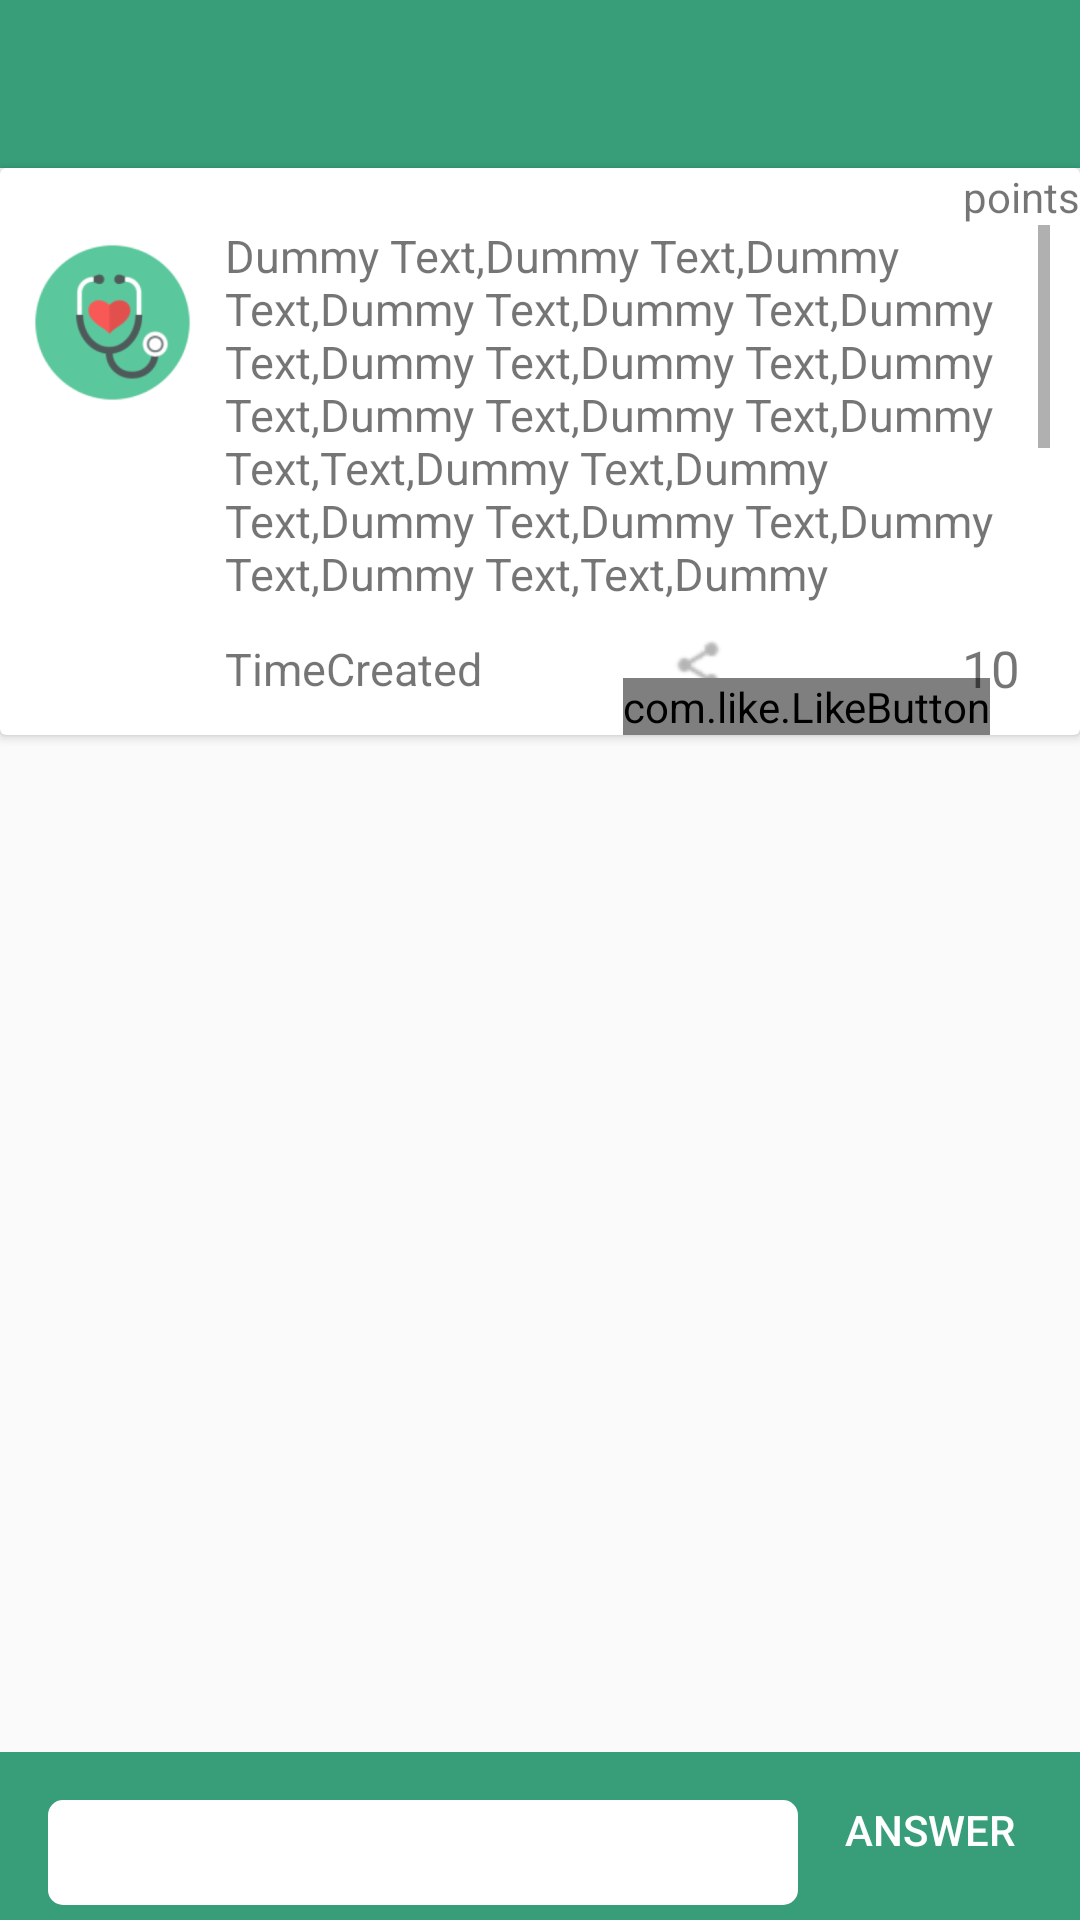

Screen size 1080px x 1920px. Icon name, then its center in pixels as [x,y]:
medical: [112,322]
share: [698,667]
